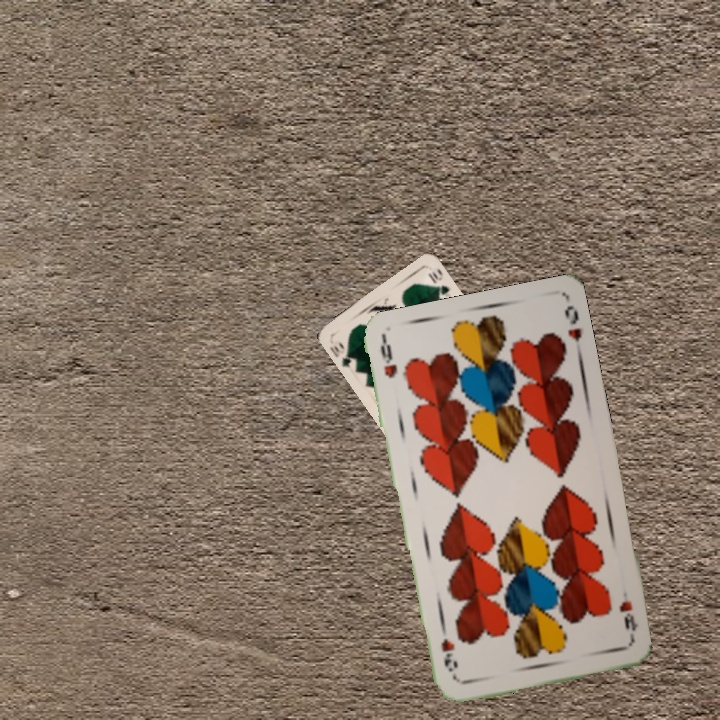G10: (326, 338, 360, 371)
H9: (615, 587, 641, 642), (376, 336, 400, 381)
